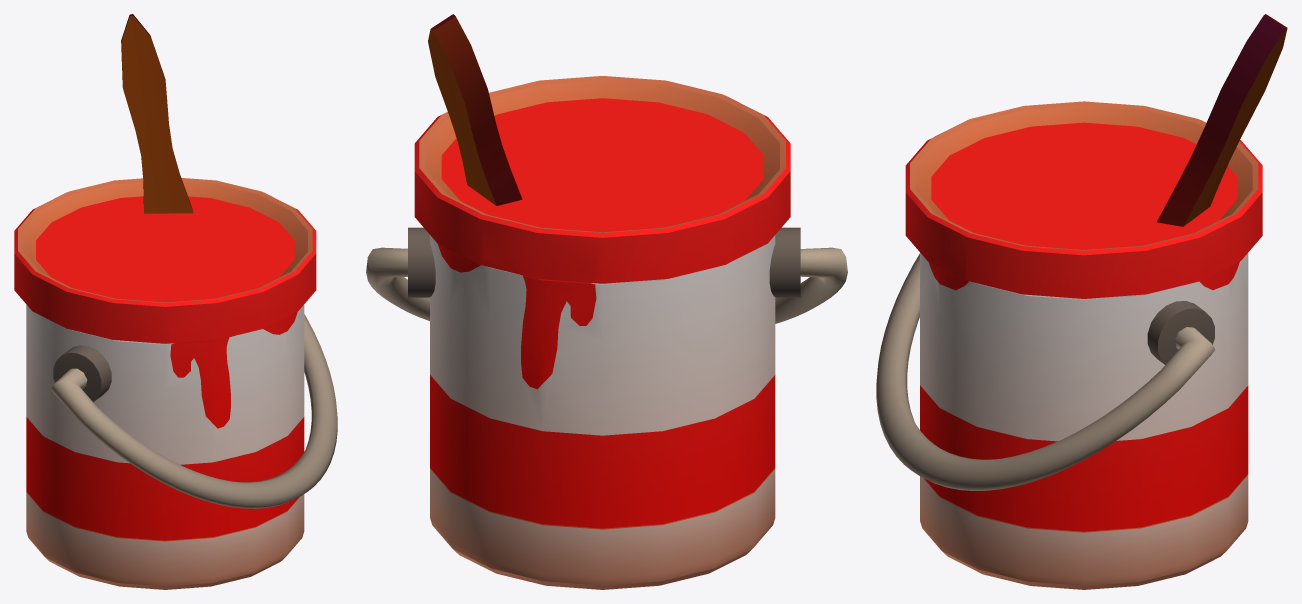
The model's file is Red_Bucket.FBX.
3 views of the same model, side by side, from view 1: azimuth 30°, elevation 25°; view 2: azimuth 150°, elevation 25°; view 3: azimuth 270°, elevation 25° (orthographic). The views are drawn at different scales.
Parts seen in each view (by area): view 1: RED_Bucket; view 2: RED_Bucket; view 3: RED_Bucket.
Boxes of the visible parts, x1,y1,x2,y2 form: RED_Bucket: (14,14,337,589); RED_Bucket: (366,14,847,589); RED_Bucket: (876,14,1287,589).
Size of the model in its own units: 370 by 510 by 354.
